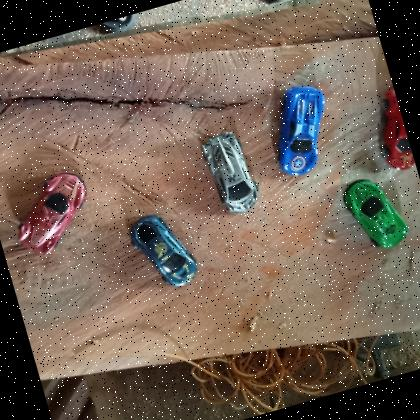Car: (3, 166, 102, 260), (258, 80, 342, 180), (123, 203, 204, 298), (338, 169, 414, 258), (198, 126, 264, 219)
